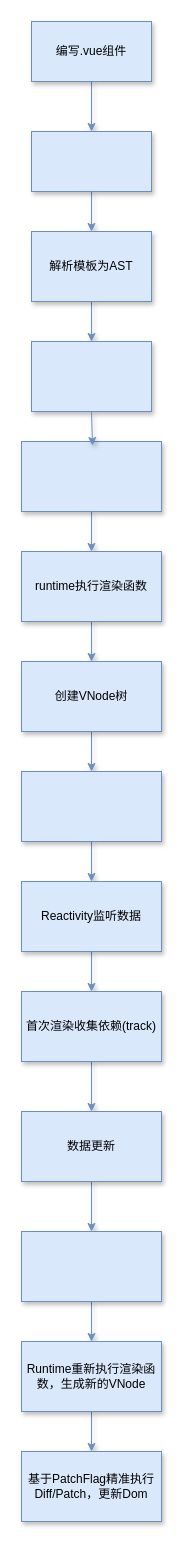
Image size: 185x1546. Some labels were removed from this diagram. Here are the shapes that lost their labels. From the top down, the centre of each, then its label:
the point at 92,162: compiler编译
the point at 92,377: 优化AST&标记静态节点(patchFlag )
the point at 92,477: 生成带patchFlag的渲染函数
the point at 92,807: 挂载VNode为真实的dom
the point at 92,1267: 触发依赖更新trigger
